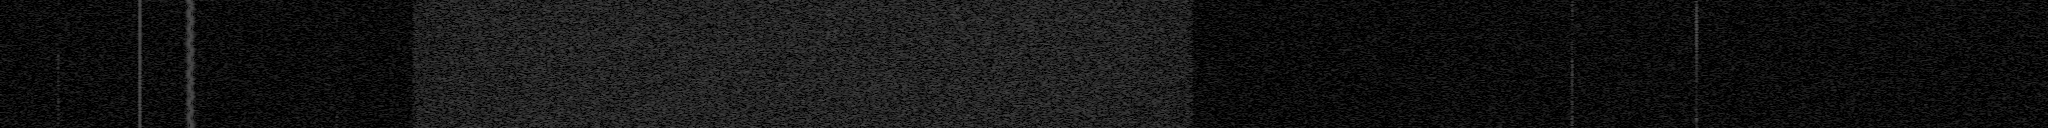wv_am: (137, 0, 142, 128)
wv_dvbt_8kfft: (400, 0, 1199, 128)
wv_lsb: (1569, 0, 1575, 128), (1694, 0, 1699, 128), (334, 111, 340, 128), (334, 7, 340, 20), (334, 20, 340, 31), (334, 44, 340, 50), (334, 1, 340, 7), (334, 54, 338, 60), (334, 33, 338, 39), (334, 106, 338, 110), (334, 40, 338, 43)
wv_usb: (56, 46, 61, 128), (56, 1, 61, 26), (57, 42, 60, 44)
wv_wbfm: (182, 0, 199, 128)
